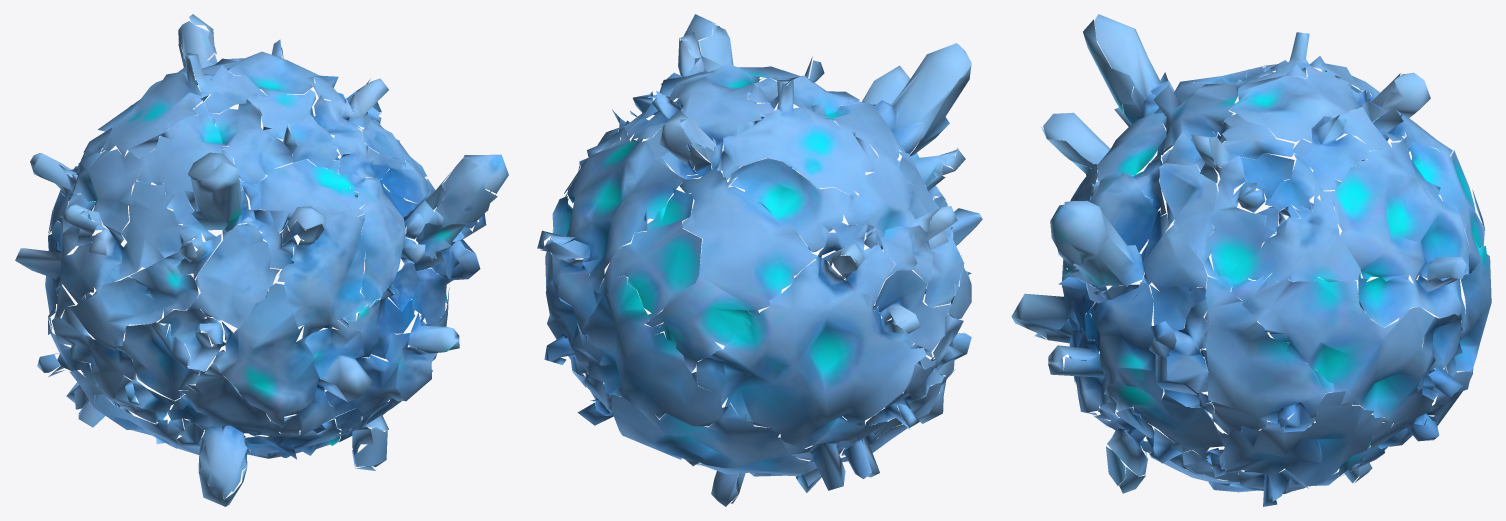
The model's file is asteroid_ice.glb.
The picture shows the model from 3 angles, left to right: view 1: azimuth 30°, elevation 25°; view 2: azimuth 150°, elevation 25°; view 3: azimuth 270°, elevation 25°; orthographic projection. The views are drawn at different scales.
Visible parts, largest first — view 1: tripo_node_881fdde6-4e3c-4a17-96ea-91776ac6e6b3; view 2: tripo_node_881fdde6-4e3c-4a17-96ea-91776ac6e6b3; view 3: tripo_node_881fdde6-4e3c-4a17-96ea-91776ac6e6b3.
Part boxes in pixels (bbox=[...]): tripo_node_881fdde6-4e3c-4a17-96ea-91776ac6e6b3: bbox=[15, 14, 508, 506]; tripo_node_881fdde6-4e3c-4a17-96ea-91776ac6e6b3: bbox=[537, 14, 982, 506]; tripo_node_881fdde6-4e3c-4a17-96ea-91776ac6e6b3: bbox=[1011, 14, 1491, 506].
Bounding box in the file's own units: 39.5 × 39.78 × 40.
Materials: 1 (1 with a texture image).
